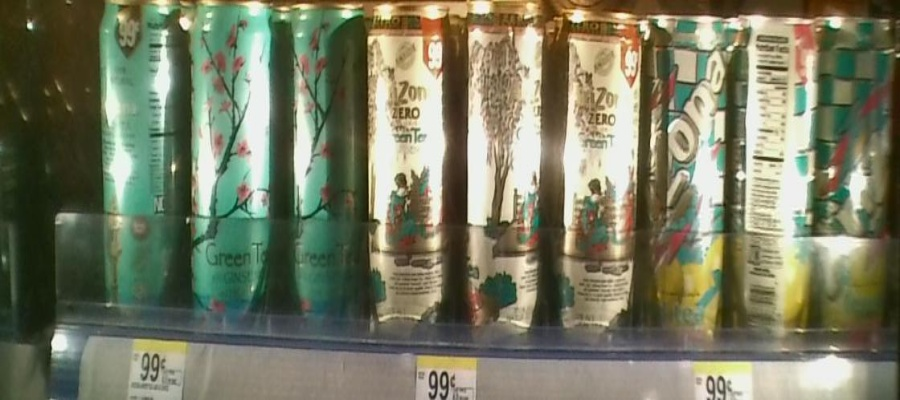bottle: (550, 4, 640, 353), (279, 5, 370, 335), (643, 6, 730, 350), (460, 8, 547, 344), (189, 5, 278, 331), (370, 8, 456, 344), (97, 6, 186, 329), (734, 3, 817, 348), (820, 4, 898, 354)
